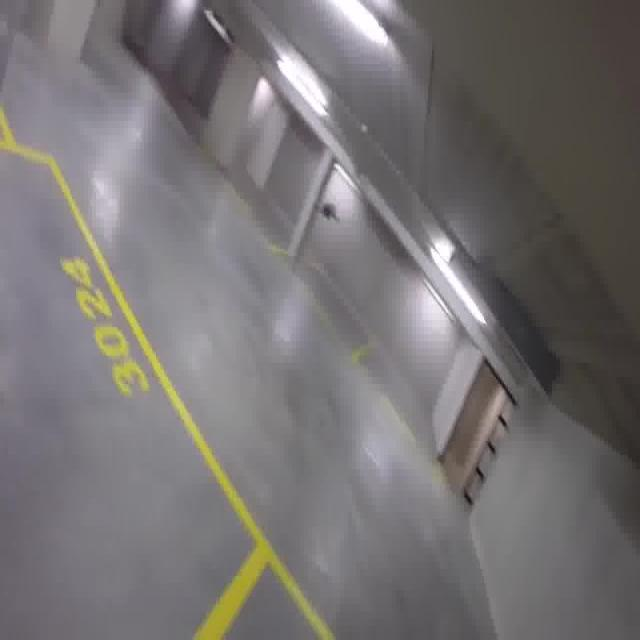drones: (308, 191, 346, 231)
